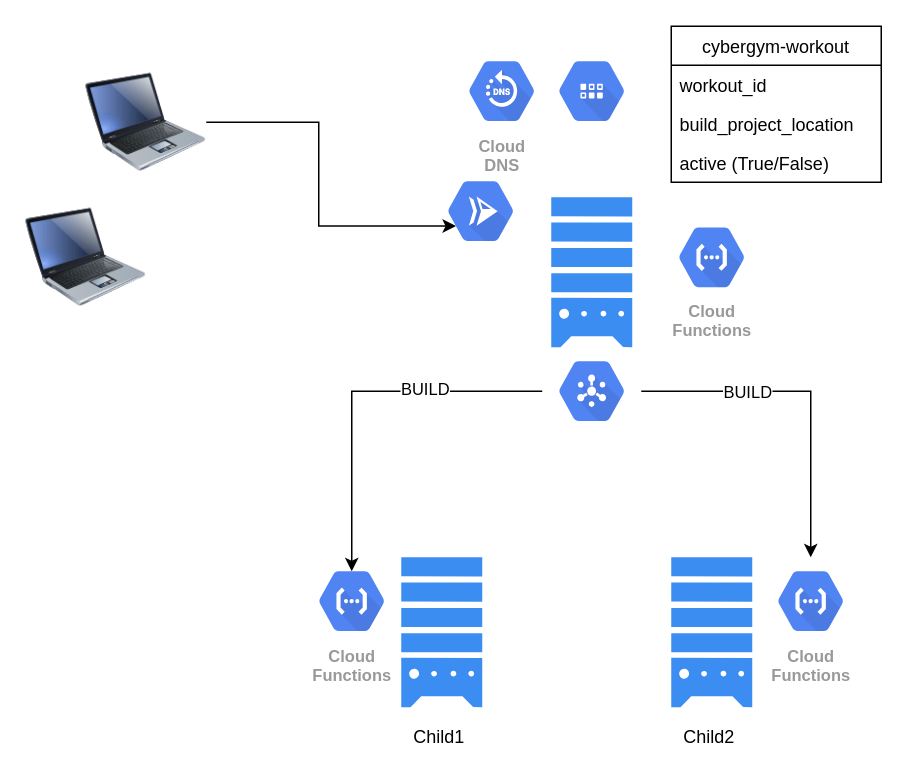
This 908x779 diagram has some shape labels left out. The centre of each missing label's shape, as x and y in pixels:
Cloud Datastore: the point at 591,90
Cloud Pub/Sub: the point at 591,390
Cloud Run: the point at 480,210
